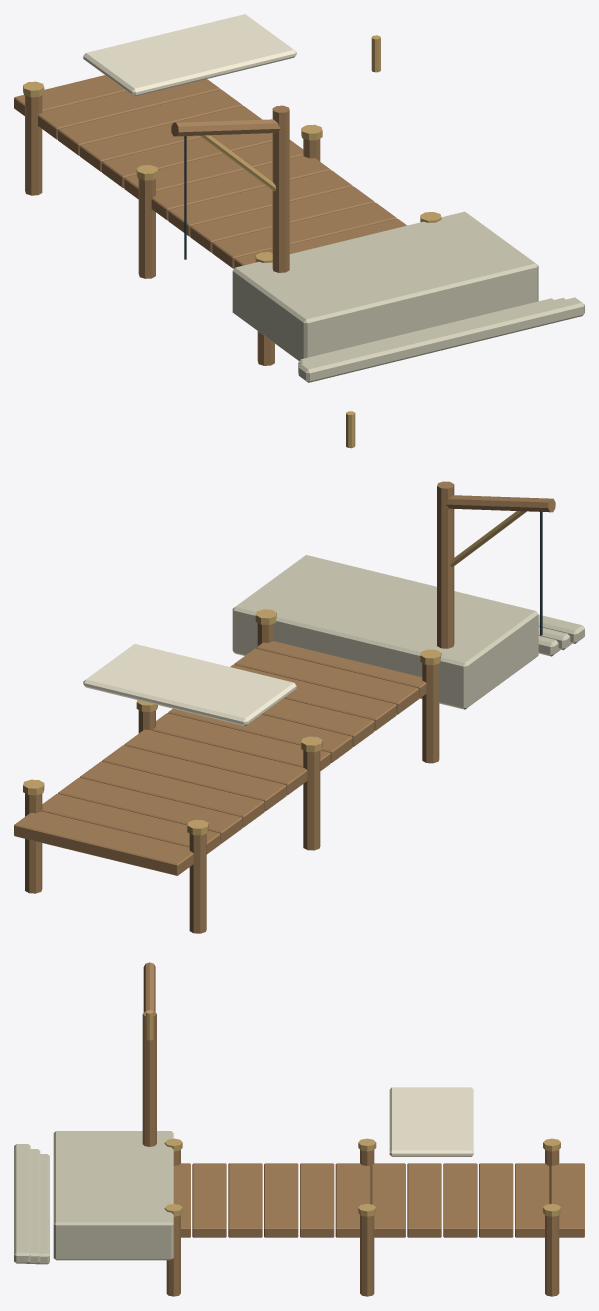
Rendered from level_21.glb.
3 views of the same model, one above another, from view 1: azimuth 30°, elevation 25°; view 2: azimuth 150°, elevation 25°; view 3: azimuth 270°, elevation 25° (orthographic). The views are drawn at different scales.
Visible parts, largest first — view 1: dock — level 21; view 2: dock — level 21; view 3: dock — level 21.
Boxes of the visible parts, x1,y1,x2,y2 form: dock — level 21: (14,14,584,382); dock — level 21: (14,411,584,933); dock — level 21: (14,962,584,1296).
Bounding box in the file's own units: 5.14 × 4.67 × 9.5.
